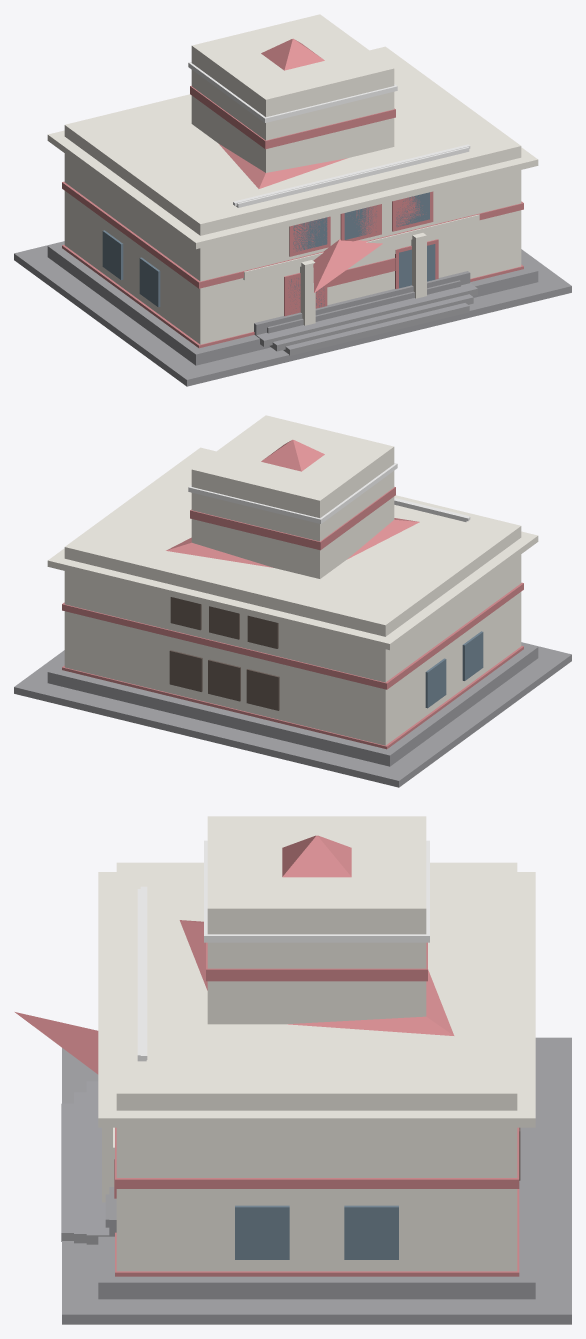
Rendered from chairman_residency.glb.
3 renders of one model, top to bottom at view 1: azimuth 30°, elevation 25°; view 2: azimuth 150°, elevation 25°; view 3: azimuth 270°, elevation 25°, orthographic. The views are drawn at different scales.
Parts seen in each view (by area): view 1: FF_Body, Tower, GF_Body, Ground, Soffit_GF, Plinth, Step2_0, Step2_2, Tower_Rose_Band, Roof_Porch, Step2_1, Porch_Slab (+24 smaller); view 2: FF_Body, Tower, GF_Body, Ground, Plinth, Soffit_GF, Rose_Band_FF, Tower_Rose_Band, Rose_Band_GF, Roof_Main, Tower_Rail, Back_GF_Win_-1.8 (+10 smaller); view 3: FF_Body, Tower, GF_Body, Ground, Soffit_GF, Plinth, SideRose_7.52, Tower_Rose_Band, Roof_Main, GF_SideWin_R_-1.5, GF_SideWin_R_1.5, Tower_Rail (+11 smaller).
Boxes of the visible parts, x1,y1,x2,y2 form: FF_Body: (64, 46, 521, 290); Tower: (191, 14, 394, 172); GF_Body: (64, 191, 521, 344); Ground: (14, 241, 571, 386); Soffit_GF: (47, 130, 538, 249); Plinth: (47, 242, 538, 365); Step2_0: (256, 283, 477, 346); Step2_2: (283, 303, 469, 355); Tower_Rose_Band: (190, 86, 395, 149); Roof_Porch: (313, 239, 382, 292); Step2_1: (270, 294, 473, 351); Porch_Slab: (254, 271, 470, 335); FF_Body: (64, 447, 521, 692); Tower: (191, 415, 394, 578); GF_Body: (64, 592, 521, 745); Ground: (14, 642, 571, 787); Plinth: (47, 643, 538, 766); Soffit_GF: (47, 531, 538, 650); Rose_Band_FF: (63, 582, 522, 689); Tower_Rose_Band: (190, 487, 395, 550); Rose_Band_GF: (63, 645, 522, 748); Roof_Main: (166, 518, 419, 567); Tower_Rail: (188, 463, 397, 523); Back_GF_Win_-1.8: (246, 669, 279, 710); FF_Body: (116, 862, 517, 1192); Tower: (207, 816, 426, 1024); GF_Body: (116, 1189, 517, 1271); Ground: (62, 1037, 571, 1324); Soffit_GF: (98, 872, 535, 1127); Plinth: (98, 1127, 535, 1299); SideRose_7.52: (115, 1178, 519, 1188); Tower_Rose_Band: (206, 942, 427, 981); Roof_Main: (179, 920, 454, 1035); GF_SideWin_R_-1.5: (235, 1205, 289, 1259); GF_SideWin_R_1.5: (344, 1205, 398, 1259); Tower_Rail: (204, 840, 429, 942).
Bounding box in the file's own units: 18 × 10.6 × 15.32.
